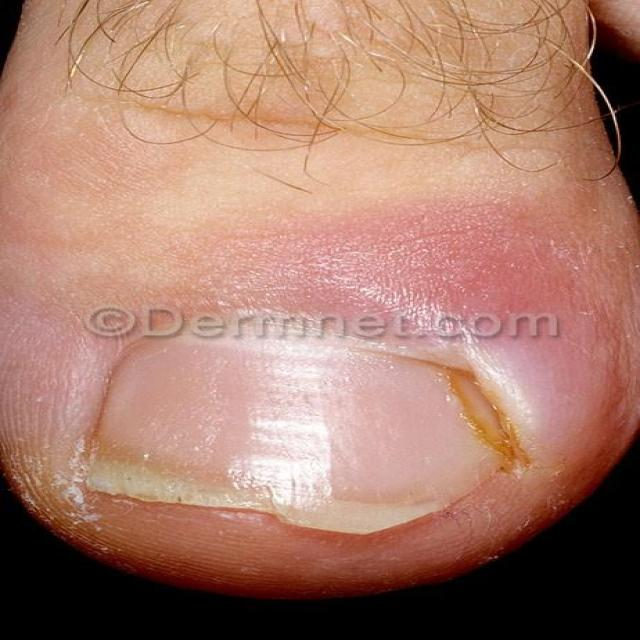Nail: (79, 333, 541, 535)
